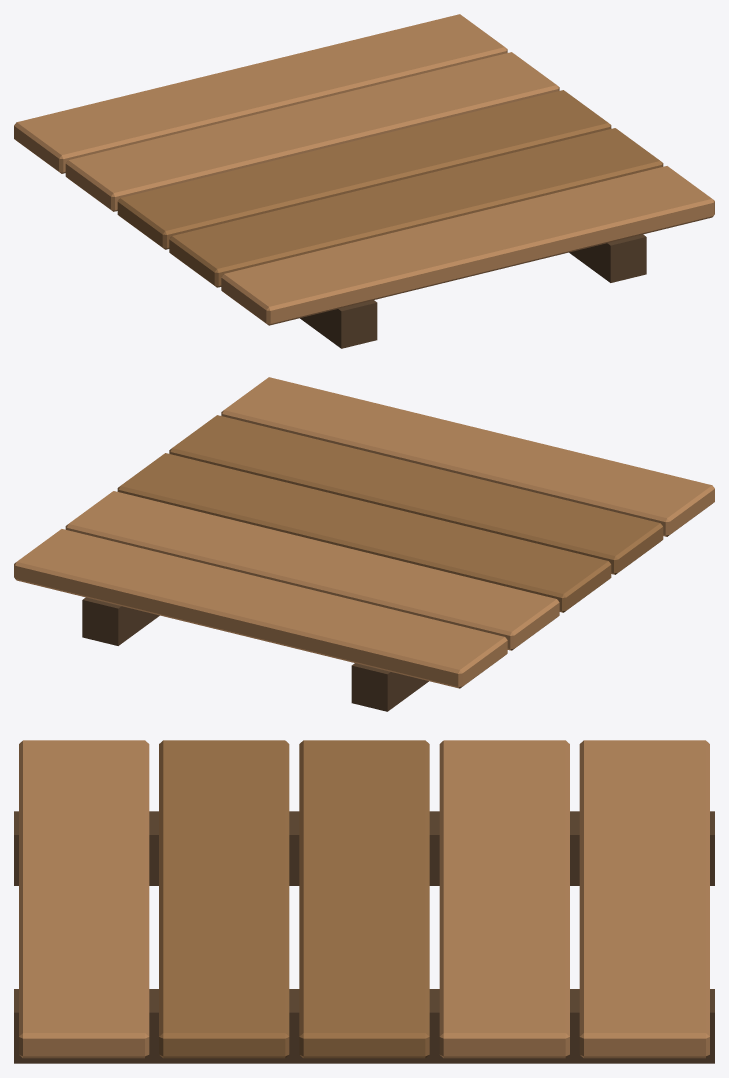
The model's file is boardwalk.glb.
3 views of the same model, one above another, from view 1: azimuth 30°, elevation 25°; view 2: azimuth 150°, elevation 25°; view 3: azimuth 270°, elevation 25° (orthographic). The views are drawn at different scales.
Visible parts, largest first — view 1: boardwalk; view 2: boardwalk; view 3: boardwalk.
Part boxes in pixels (left/top/right/bottom): boardwalk: left=14, top=14, right=714, bottom=348; boardwalk: left=14, top=377, right=714, bottom=711; boardwalk: left=14, top=740, right=714, bottom=1063.
Size of the model in its own units: 1 by 0.12 by 1.
